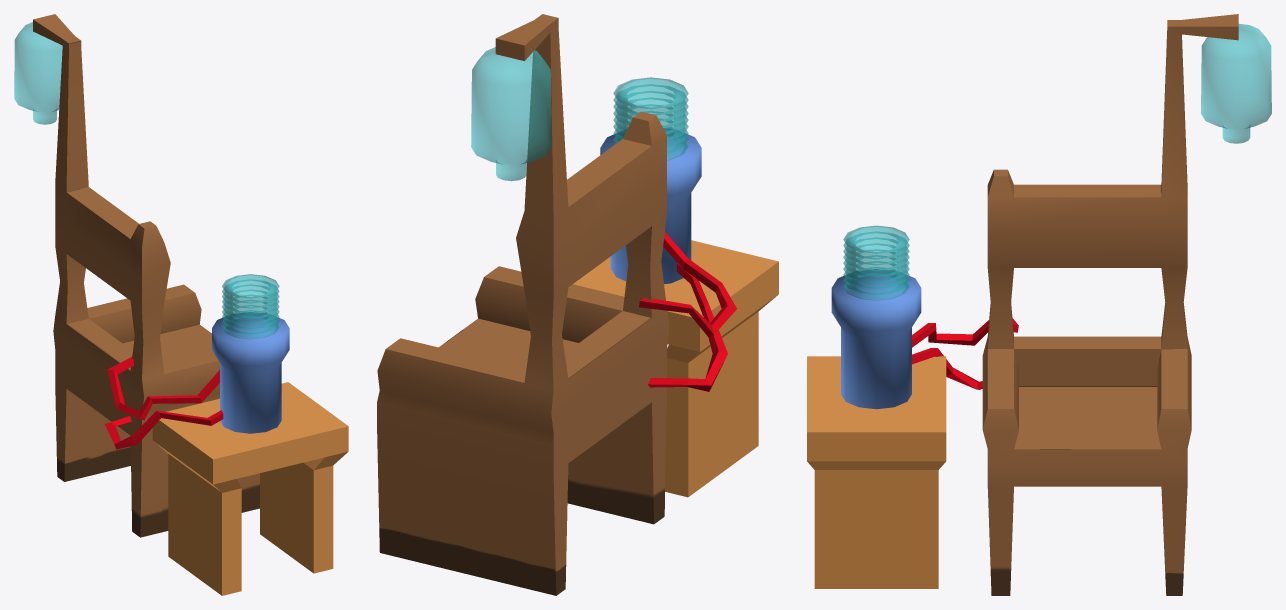
The model's file is JoyChair.fbx.
3 renders of one model, left to right at view 1: azimuth 30°, elevation 25°; view 2: azimuth 150°, elevation 25°; view 3: azimuth 270°, elevation 25°, orthographic. The views are drawn at different scales.
Visible parts, largest first — view 1: Chair, Cube, Cylinder, Cylinder.002, Cylinder.001, Cube.002, Cube.003; view 2: Chair, Cube, Cylinder.002, Cylinder, Cylinder.001, Cube.002, Cube.003; view 3: Chair, Cube, Cylinder, Cylinder.002, Cylinder.001, Cube.002, Cube.003.
Part boxes in pixels (x1=…): Chair: x1=33, y1=14, x2=259, y2=537; Cube: x1=152, y1=382, x2=348, y2=595; Cylinder: x1=212, y1=312, x2=289, y2=433; Cylinder.002: x1=14, y1=22, x2=62, y2=124; Cylinder.001: x1=222, y1=274, x2=279, y2=339; Cube.002: x1=107, y1=357, x2=219, y2=420; Cube.003: x1=104, y1=410, x2=223, y2=449; Chair: x1=377, y1=14, x2=669, y2=595; Cube: x1=573, y1=240, x2=778, y2=497; Cylinder.002: x1=471, y1=47, x2=551, y2=181; Cylinder: x1=600, y1=128, x2=701, y2=284; Cylinder.001: x1=613, y1=77, x2=688, y2=160; Cube.002: x1=639, y1=232, x2=736, y2=336; Cube.003: x1=647, y1=263, x2=727, y2=391; Chair: x1=982, y1=14, x2=1238, y2=595; Cube: x1=807, y1=356, x2=946, y2=588; Cylinder: x1=831, y1=269, x2=921, y2=409; Cylinder.002: x1=1201, y1=24, x2=1271, y2=143; Cylinder.001: x1=843, y1=225, x2=909, y2=300; Cube.002: x1=912, y1=318, x2=1018, y2=347; Cube.003: x1=912, y1=348, x2=982, y2=389.
Size of the model in its own units: 50.31 by 128 by 106.
